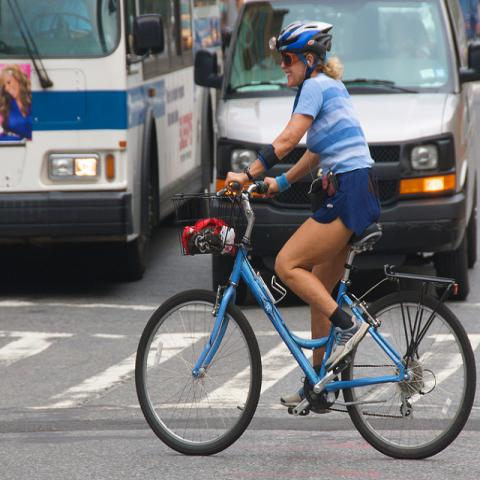bus: (0, 0, 224, 283)
car: (193, 1, 479, 287)
